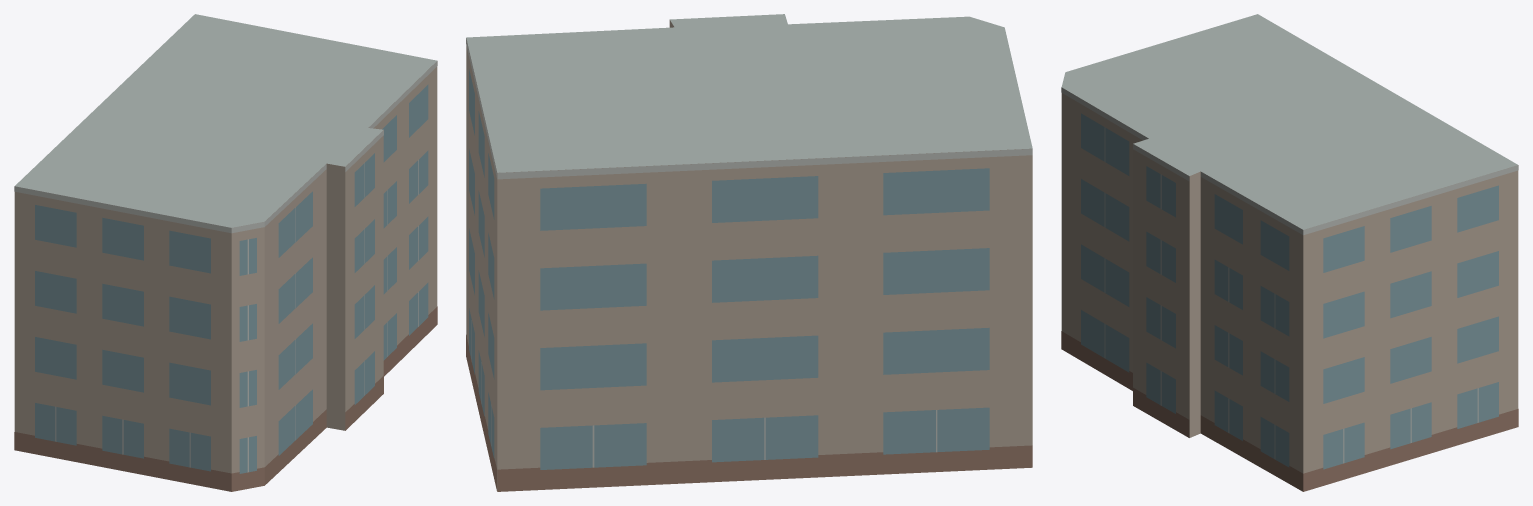
The model's file is survey-upis-32909293.glb.
3 views of the same model, side by side, from view 1: azimuth 30°, elevation 25°; view 2: azimuth 150°, elevation 25°; view 3: azimuth 270°, elevation 25° (orthographic). The views are drawn at different scales.
Visible parts, largest first — view 1: survey-upis-32909293.tmp; view 2: survey-upis-32909293.tmp; view 3: survey-upis-32909293.tmp.
Part boxes in pixels (x1,y1,x2,y2): survey-upis-32909293.tmp: [14, 14, 437, 491]; survey-upis-32909293.tmp: [466, 14, 1032, 491]; survey-upis-32909293.tmp: [1061, 14, 1518, 491].
Bounding box in the file's own units: 20.95 × 11.85 × 18.74.
